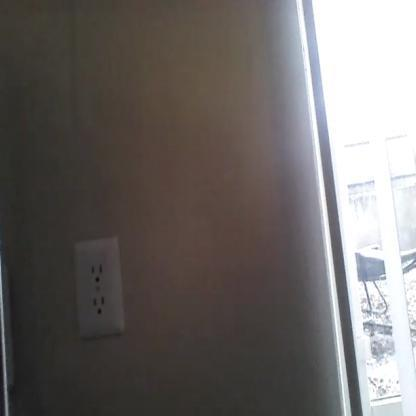OUTLET: (76, 240, 122, 332)
